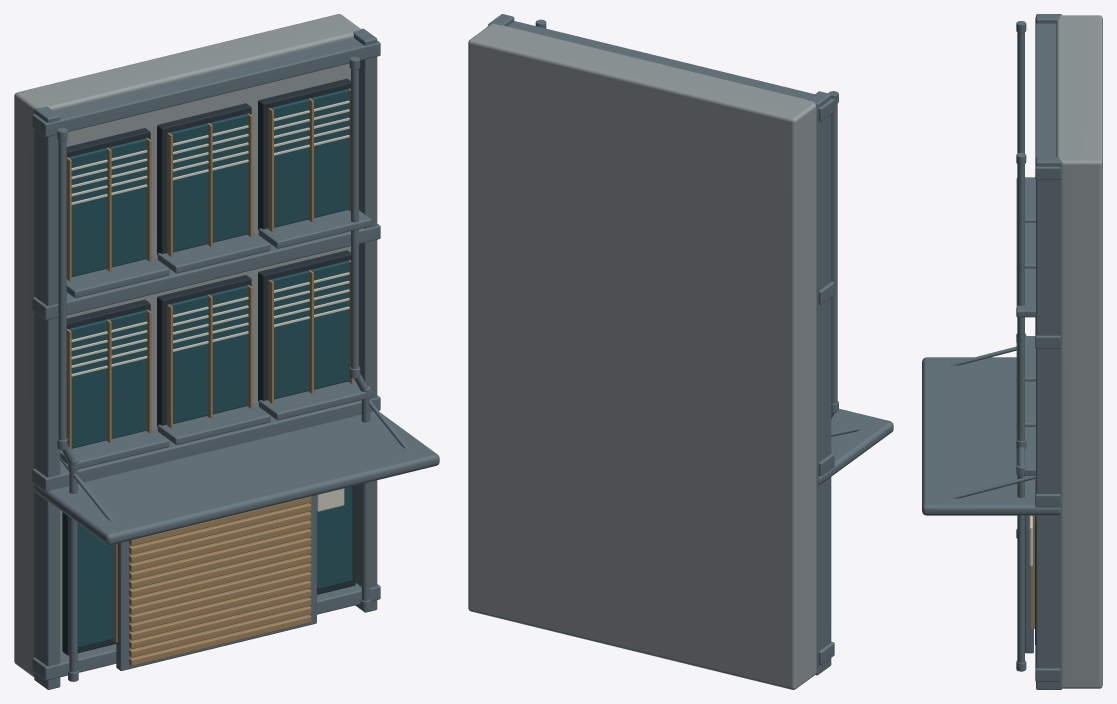
File: shutter.glb
3 views of the same model, side by side, from view 1: azimuth 30°, elevation 25°; view 2: azimuth 150°, elevation 25°; view 3: azimuth 270°, elevation 25° (orthographic). The views are drawn at different scales.
Visible parts, largest first — view 1: shutter_metal, shutter_glass, shutter_bronze, shutter_concrete, shutter_dark, shutter_ivory; view 2: shutter_concrete, shutter_metal; view 3: shutter_metal, shutter_concrete, shutter_bronze.
Boxes of the visible parts, x1=… form: shutter_metal: x1=32, y1=28, x2=439, y2=689; shutter_glass: x1=68, y1=89, x2=352, y2=647; shutter_bronze: x1=66, y1=88, x2=353, y2=666; shutter_concrete: x1=14, y1=14, x2=360, y2=677; shutter_dark: x1=61, y1=78, x2=355, y2=655; shutter_ivory: x1=71, y1=100, x2=349, y2=511; shutter_concrete: x1=468, y1=23, x2=816, y2=689; shutter_metal: x1=487, y1=14, x2=893, y2=675; shutter_metal: x1=922, y1=14, x2=1062, y2=689; shutter_concrete: x1=1056, y1=15, x2=1102, y2=688; shutter_bronze: x1=1030, y1=515, x2=1034, y2=628.
Size of the model in its own units: 6.14 by 10 by 3.1.
